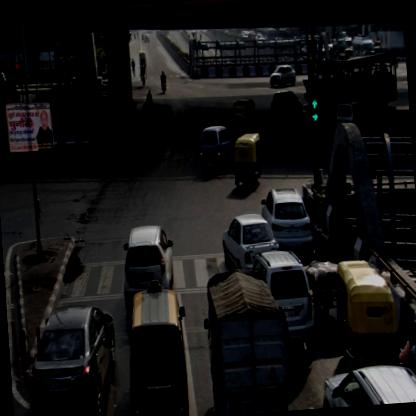bus: (314, 48, 399, 116), (352, 34, 374, 58)
car: (23, 304, 123, 415), (124, 288, 193, 415), (250, 245, 318, 361), (119, 223, 180, 304), (319, 362, 415, 409), (260, 187, 316, 260), (219, 212, 280, 277), (199, 125, 236, 174), (271, 87, 304, 122), (334, 103, 369, 134), (270, 65, 298, 91)
truck: (200, 266, 290, 416)
